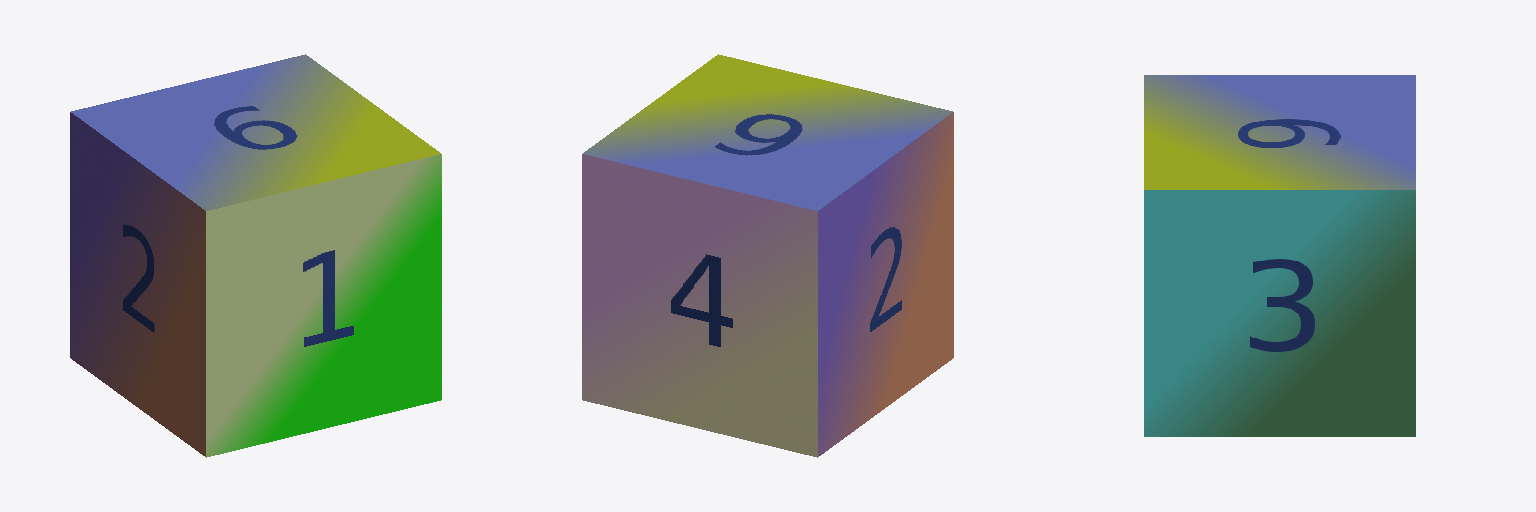
The picture shows the model from 3 angles: view 1: azimuth 30°, elevation 25°; view 2: azimuth 150°, elevation 25°; view 3: azimuth 270°, elevation 25°; orthographic projection.
Parts seen in each view (by area): view 1: textured_cube; view 2: textured_cube; view 3: textured_cube.
Part boxes in pixels (x1,y1,x2,y2): textured_cube: (70,54,441,457); textured_cube: (582,54,953,457); textured_cube: (1144,75,1415,436).
Size of the model in its own units: 1 by 1 by 1.
Materials: 6 (6 with a texture image).